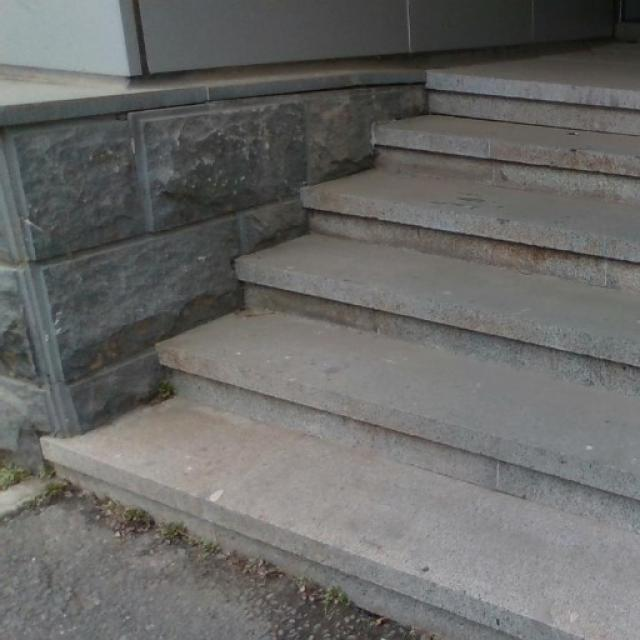Stairs: (37, 62, 638, 638)
